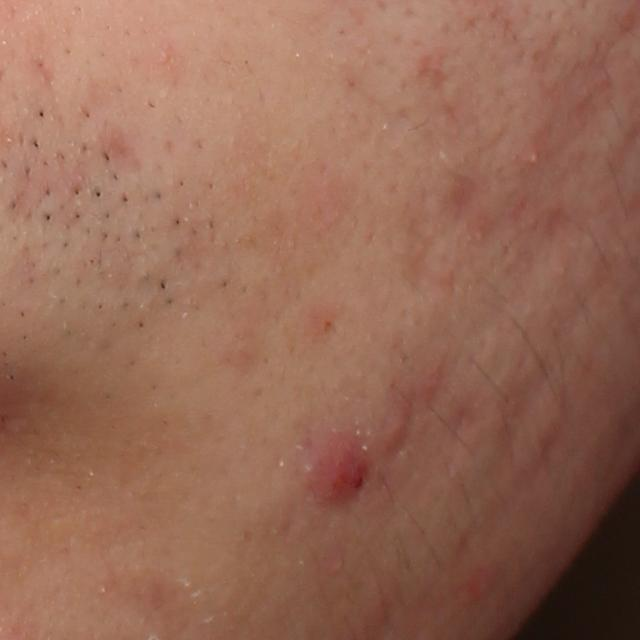atrophic_scar: (443, 167, 492, 235), (410, 44, 455, 96)
papule: (296, 434, 379, 514), (378, 395, 414, 456)
